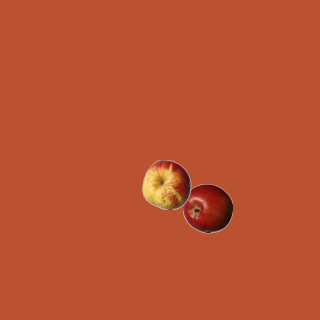Apple Braeburn: (182, 183, 232, 233)
Apple Red Yellow 1: (141, 159, 191, 209)
